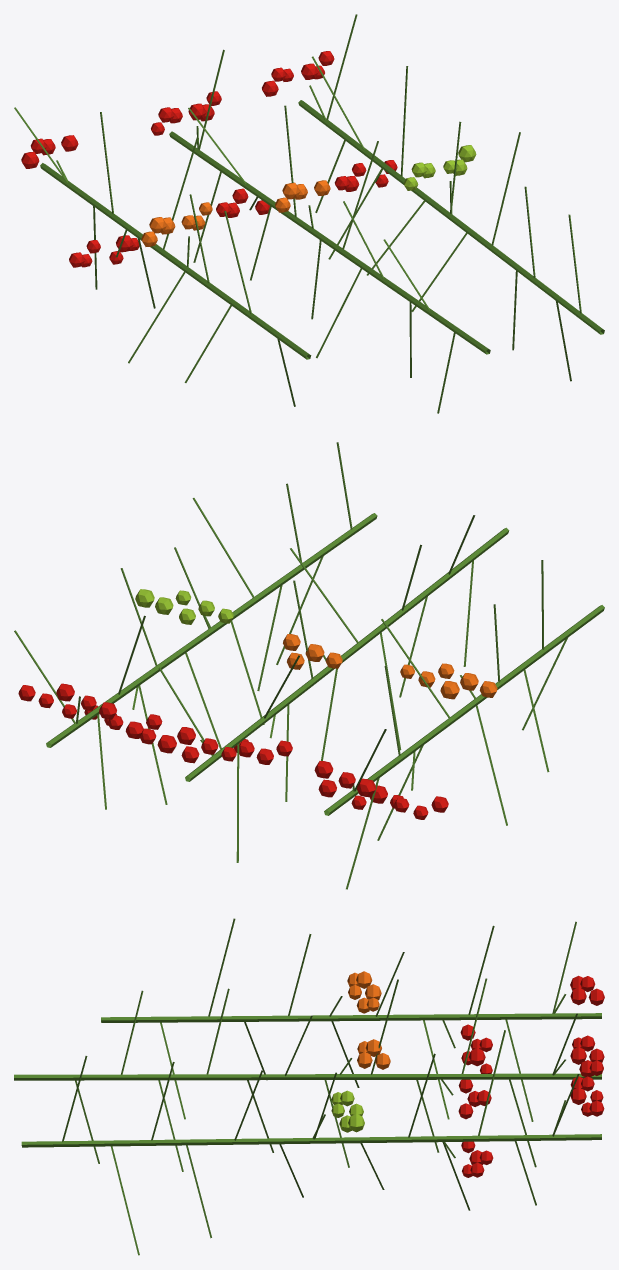
The model's file is r14c2_stems.obj.
3 views of the same model, one above another, from view 1: azimuth 30°, elevation 25°; view 2: azimuth 150°, elevation 25°; view 3: azimuth 270°, elevation 25° (orthographic). The views are drawn at different scales.
Parts seen in each view (by area): view 1: r14c2_stems; view 2: r14c2_stems; view 3: r14c2_stems.
Part boxes in pixels (<box>): r14c2_stems: <box>14,14,604,413</box>; r14c2_stems: <box>14,442,604,889</box>; r14c2_stems: <box>14,918,604,1255</box>.
Bounding box in the file's own units: 1.48 × 0.8701 × 2.27.
